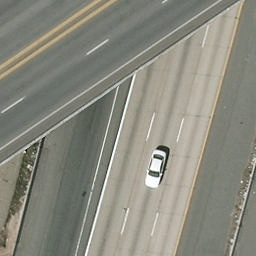car: (148, 148, 173, 188)
